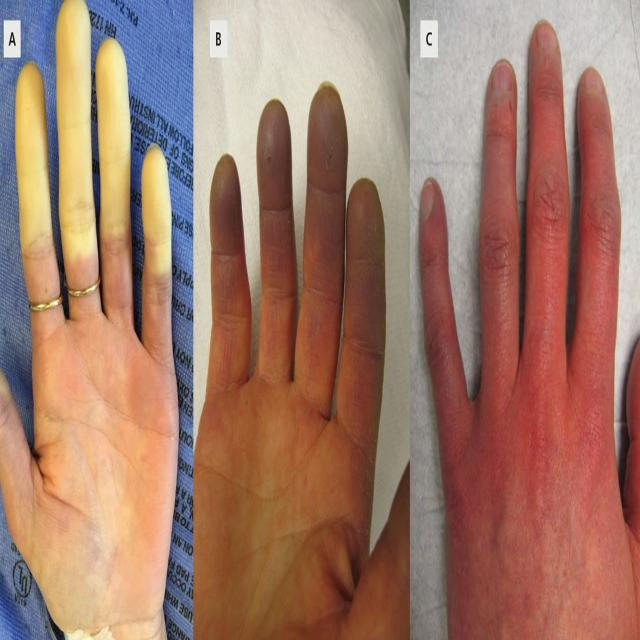raynauds: (421, 23, 640, 515), (15, 0, 178, 320), (196, 119, 391, 386)
